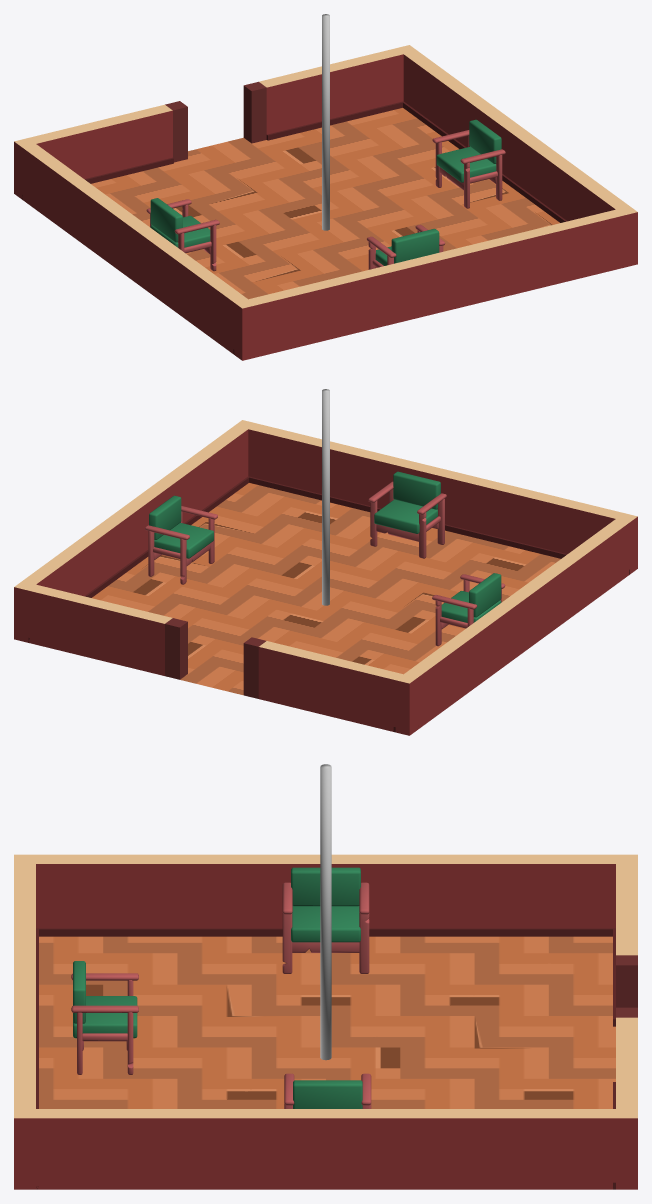
Rendered from VIP_Room_Lvl1_01a 1.fbx.
The picture shows the model from 3 angles, top to bottom: view 1: azimuth 30°, elevation 25°; view 2: azimuth 150°, elevation 25°; view 3: azimuth 270°, elevation 25°; orthographic projection. The views are drawn at different scales.
Visible parts, largest first — view 1: Plane.002, Plane.024; view 2: Plane.002, Plane.024; view 3: Plane.002, Plane.024.
Boxes of the visible parts, x1=… form: Plane.002: x1=14, y1=45, x2=637, y2=360; Plane.024: x1=146, y1=14, x2=505, y2=271; Plane.002: x1=14, y1=420, x2=637, y2=735; Plane.024: x1=145, y1=389, x2=505, y2=646; Plane.002: x1=14, y1=854, x2=637, y2=1189; Plane.024: x1=71, y1=764, x2=371, y2=1108.
Bounding box in the file's own units: 7.92 × 4.08 × 7.92.
3 materials, 2 textured.
